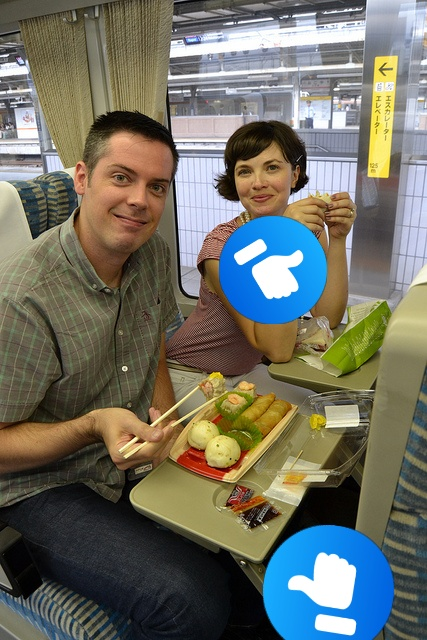like: (263, 525, 394, 640), (219, 216, 327, 324)
